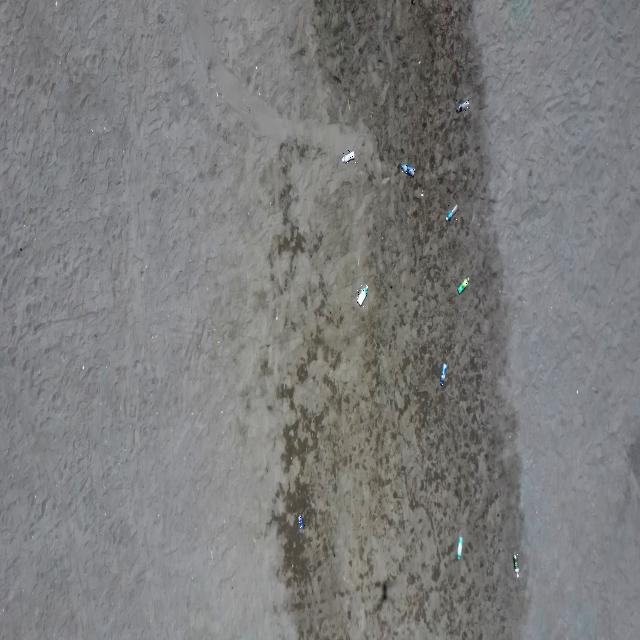Garbage: (355, 284, 367, 304), (456, 276, 468, 293), (439, 362, 447, 386), (399, 163, 413, 176), (340, 150, 353, 163), (455, 535, 462, 559), (446, 204, 456, 220), (512, 552, 518, 576), (455, 100, 468, 110), (296, 514, 303, 528)
